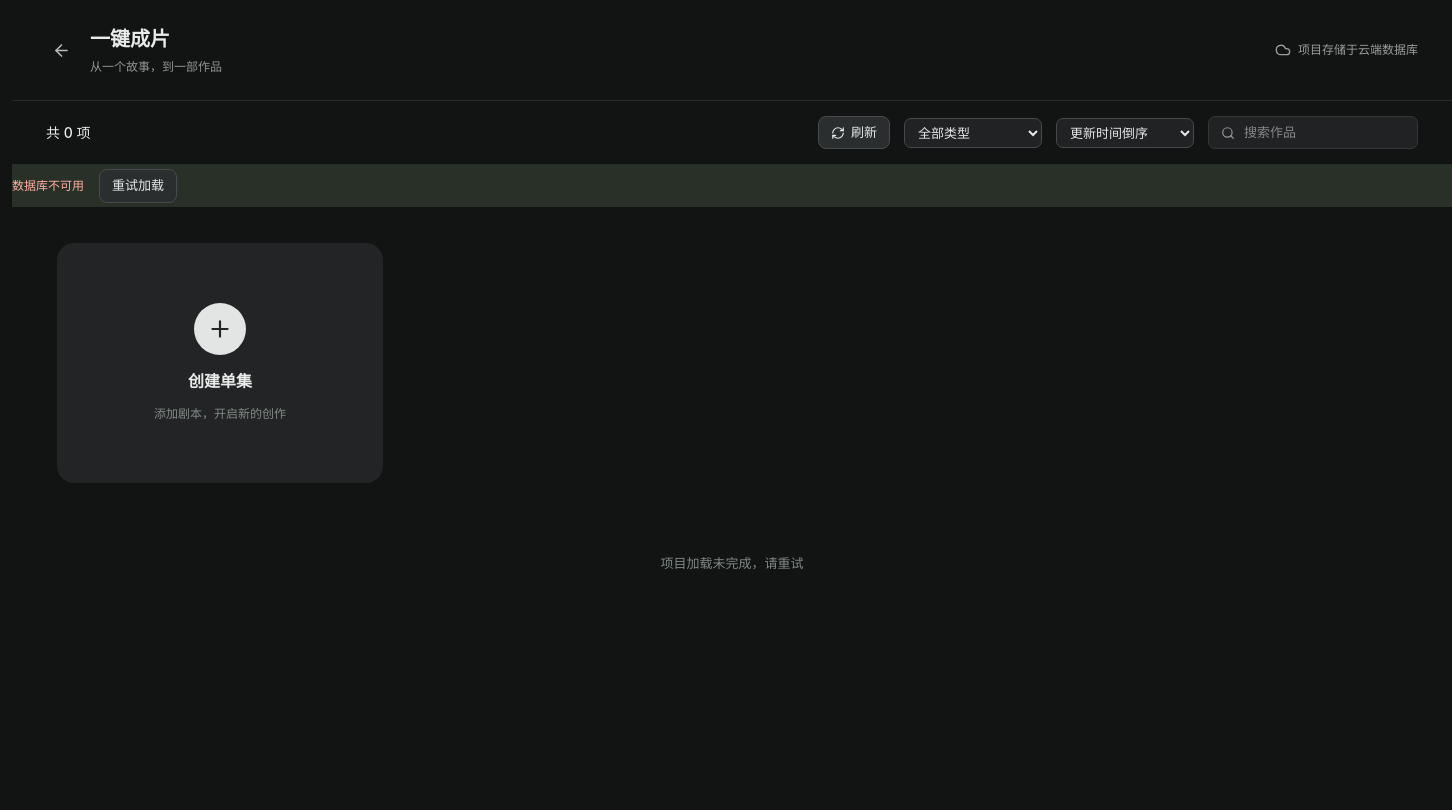
Test case: film project library › reports a load failure rather than showing a false empty library
The width and height of the screenshot is (1452, 810).
Click the button "重试加载" at [138, 186], box [99,169,177,202]
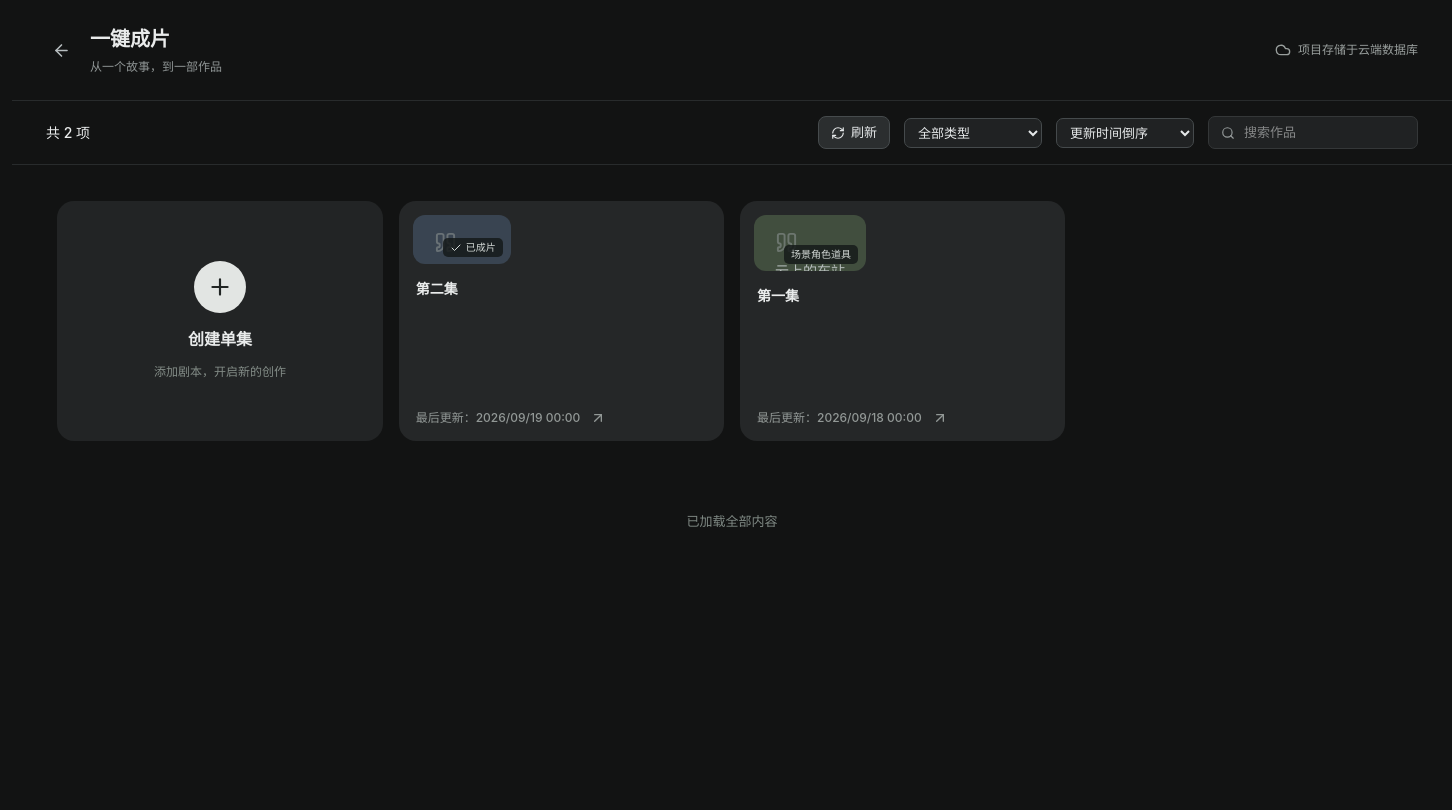
Check: the text "第一集" is shown, box [757,287,799,304]
